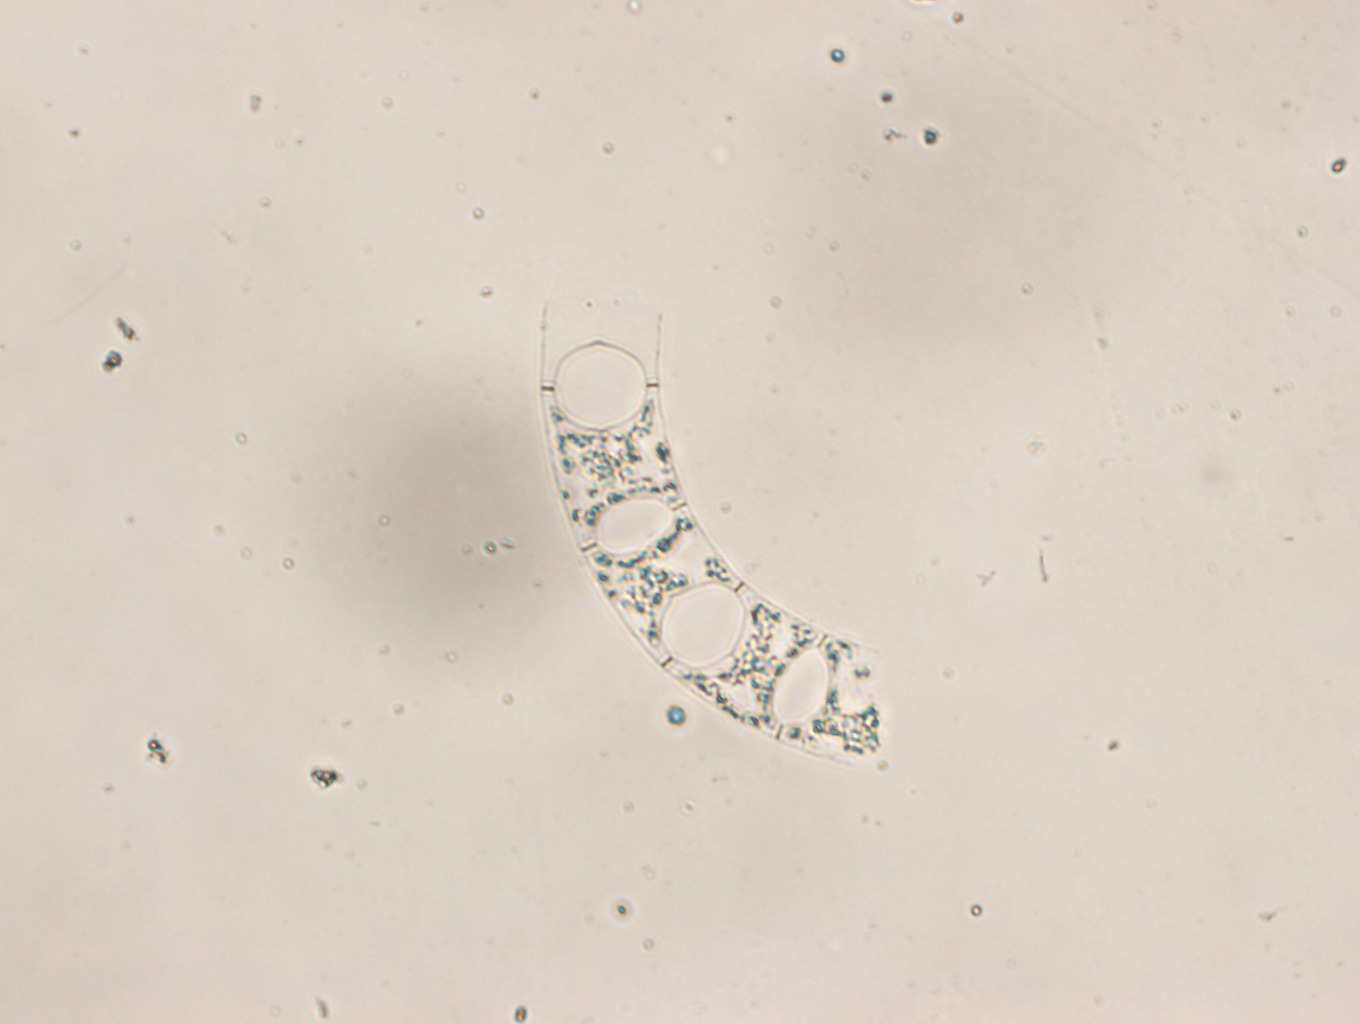eucampia: (540, 301, 883, 766)
